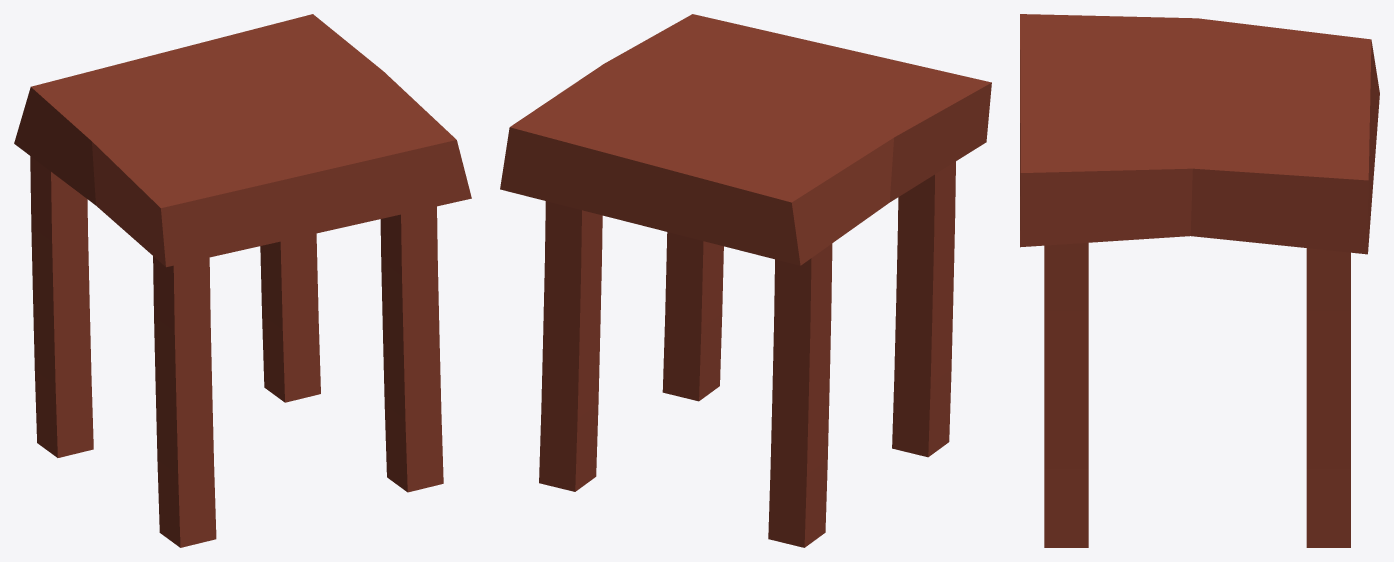
The model's file is chair_2a.fbx.
The picture shows the model from 3 angles, left to right: view 1: azimuth 30°, elevation 25°; view 2: azimuth 150°, elevation 25°; view 3: azimuth 270°, elevation 25°; orthographic projection. The views are drawn at different scales.
Visible parts, largest first — view 1: chair_2a; view 2: chair_2a; view 3: chair_2a.
Part boxes in pixels (x1,y1,x2,y2): chair_2a: (14, 14, 471, 547); chair_2a: (500, 14, 991, 547); chair_2a: (1020, 14, 1379, 547).
Size of the model in its own units: 63.13 by 66.69 by 56.62.
